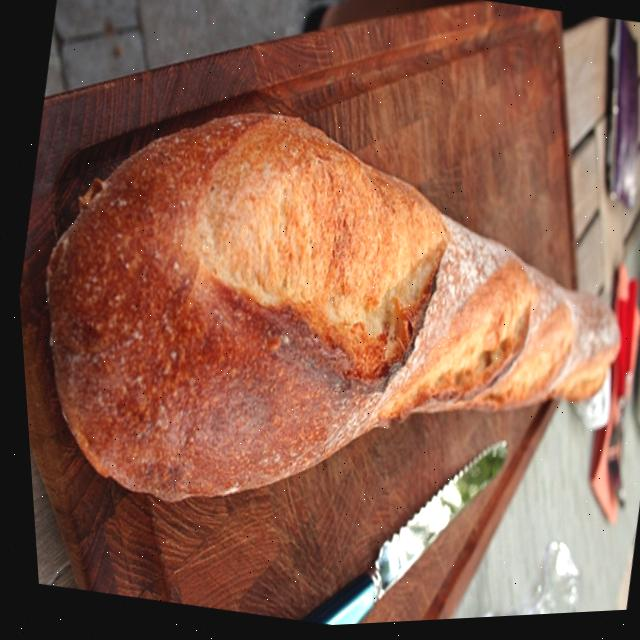面包点心: (2, 0, 640, 590)
